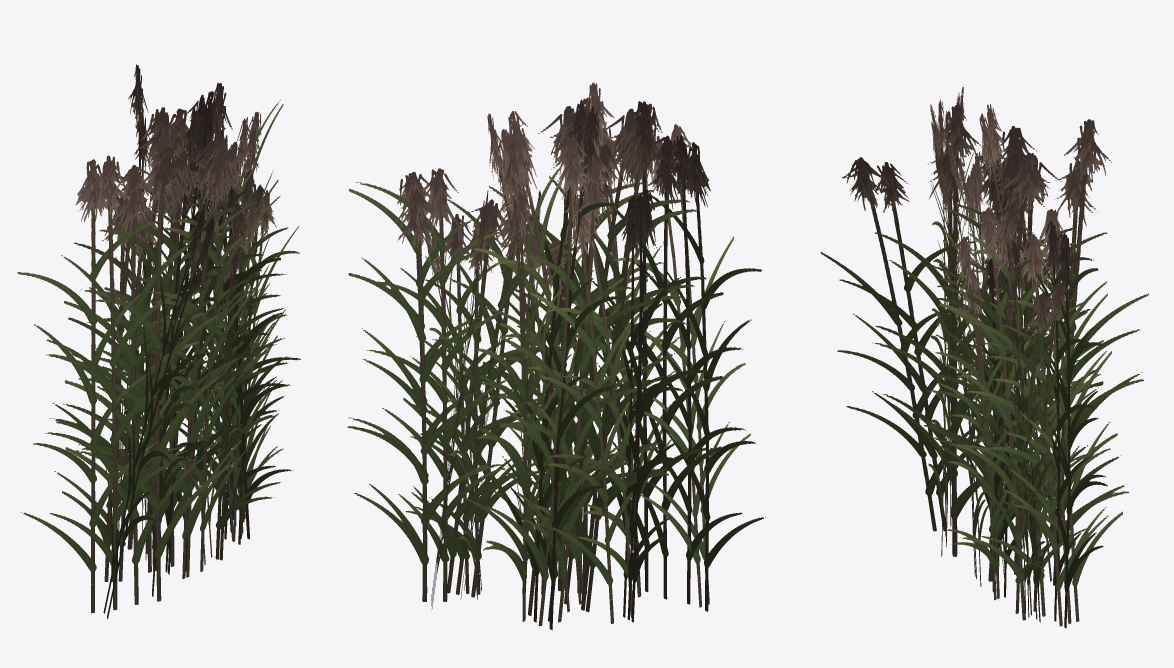
The model's file is rakos_3.glb.
3 renders of one model, left to right at view 1: azimuth 30°, elevation 25°; view 2: azimuth 150°, elevation 25°; view 3: azimuth 270°, elevation 25°, orthographic. The views are drawn at different scales.
Parts seen in each view (by area): view 1: rakos_3; view 2: rakos_3; view 3: rakos_3.
Boxes of the visible parts, x1,y1,x2,y2 form: rakos_3: (17,64,300,618); rakos_3: (347,82,765,629); rakos_3: (820,87,1148,628).
Bounding box in the file's own units: 1.88 × 2.8 × 1.81.
Materials: 1 (1 with a texture image).
